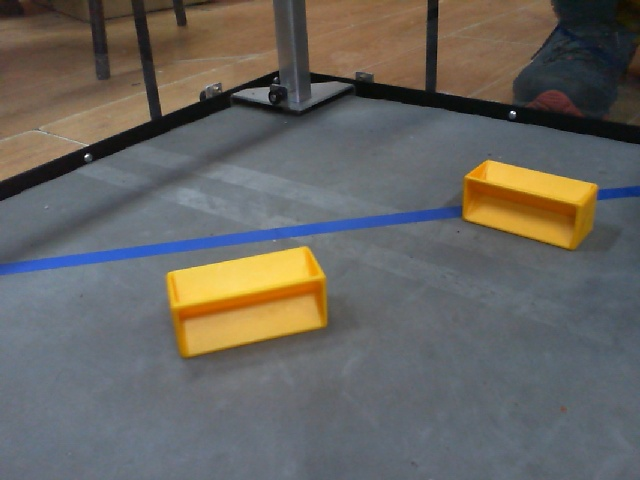YellowSample: (153, 239, 337, 364), (455, 157, 603, 261)
